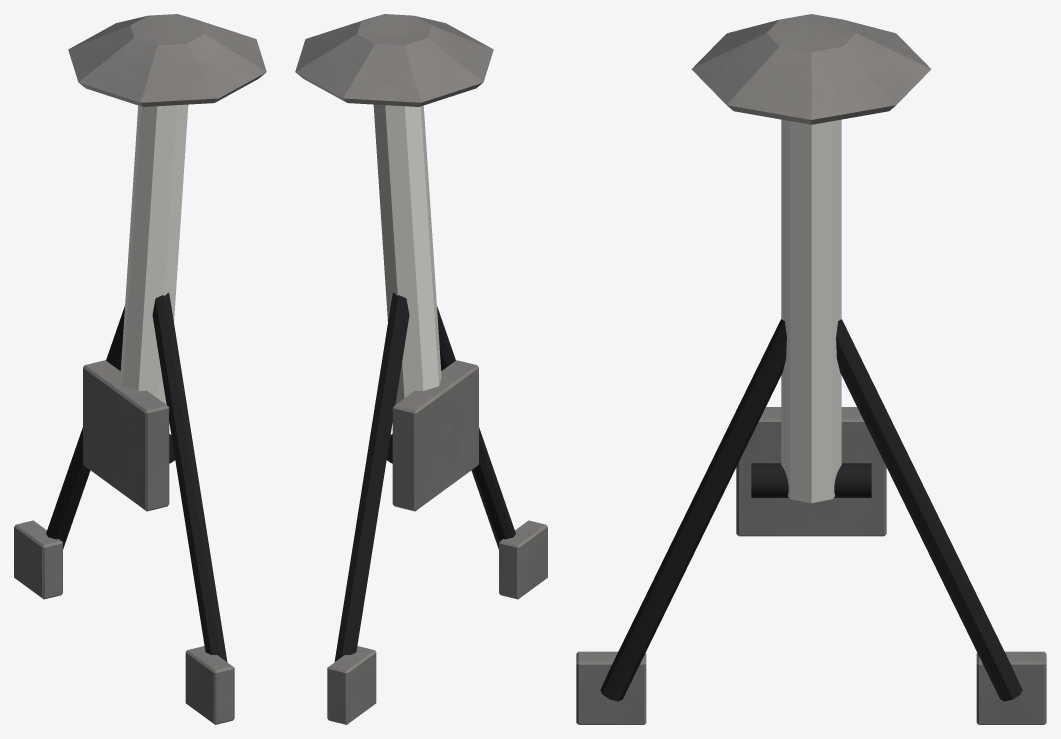
Rendered from ax_gear_04_lander_leg_l.glb.
3 renders of one model, left to right at view 1: azimuth 30°, elevation 25°; view 2: azimuth 150°, elevation 25°; view 3: azimuth 270°, elevation 25°, orthographic. The views are drawn at different scales.
Parts seen in each view (by area): view 1: leg_hinge_block, leg_footpad, leg_outer_tube, leg_secondary_struts; view 2: leg_hinge_block, leg_footpad, leg_outer_tube, leg_secondary_struts; view 3: leg_outer_tube, leg_secondary_struts, leg_footpad, leg_hinge_block, leg_hinge_pin.
Part boxes in pixels (left/top/right/bottom): leg_hinge_block: left=14, top=360, right=234, bottom=724; leg_footpad: left=68, top=14, right=266, bottom=106; leg_outer_tube: left=120, top=104, right=188, bottom=404; leg_secondary_struts: left=46, top=292, right=227, bottom=661; leg_hinge_block: left=327, top=360, right=547, bottom=724; leg_footpad: left=295, top=14, right=493, bottom=106; leg_outer_tube: left=373, top=104, right=441, bottom=404; leg_secondary_struts: left=334, top=292, right=515, bottom=661; leg_outer_tube: left=781, top=119, right=841, bottom=503; leg_secondary_struts: left=600, top=319, right=1022, bottom=701; leg_footpad: left=691, top=14, right=931, bottom=124; leg_hinge_block: left=576, top=407, right=1046, bottom=724; leg_hinge_pin: left=751, top=463, right=871, bottom=497.
Bounding box in the file's own units: 1.02 × 3.34 × 2.
5 materials, 3 textured.
